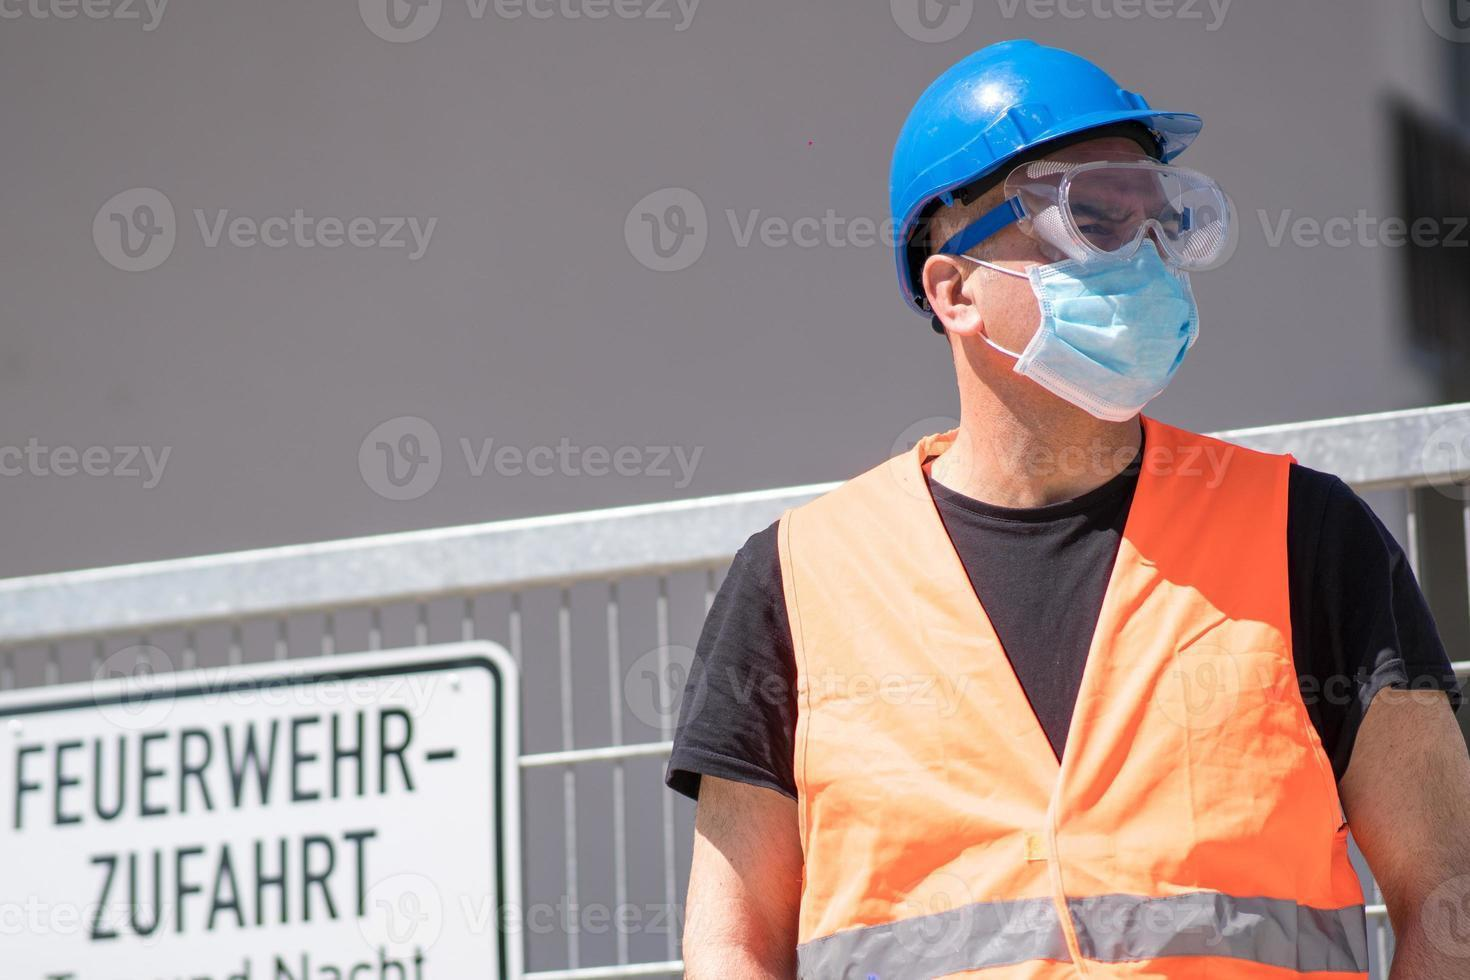hardhat: (900, 40, 1204, 313)
worker: (665, 37, 1470, 978)
